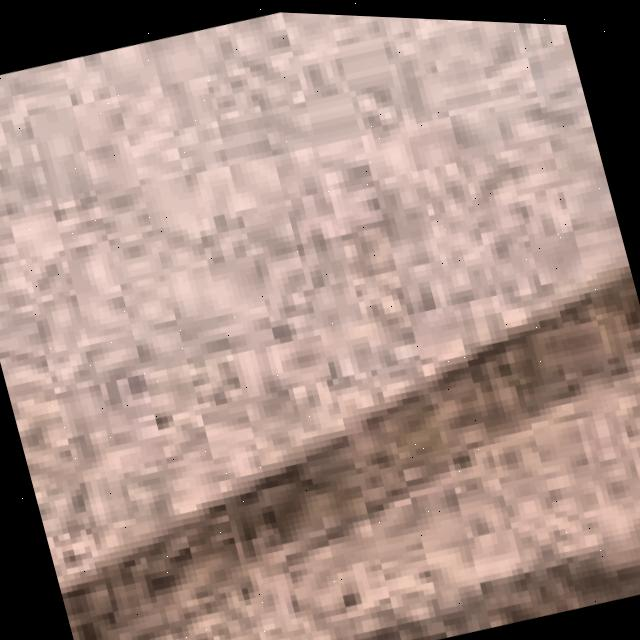paper: (0, 10, 640, 640)
